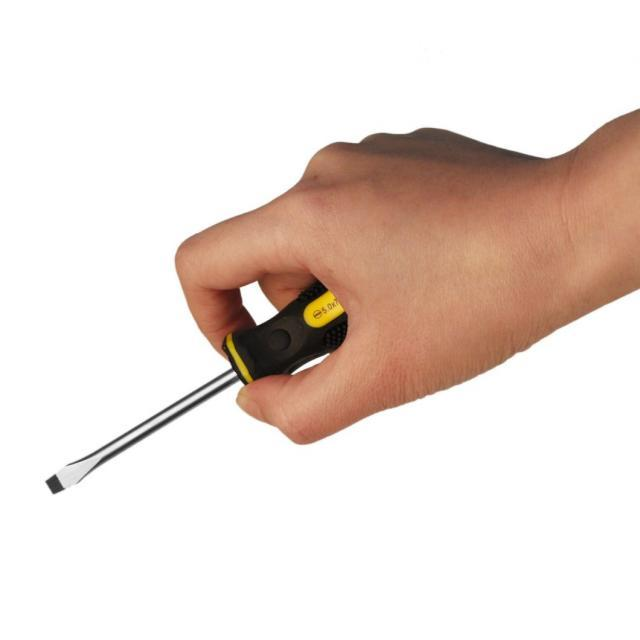screwdriver: (42, 270, 358, 501)
